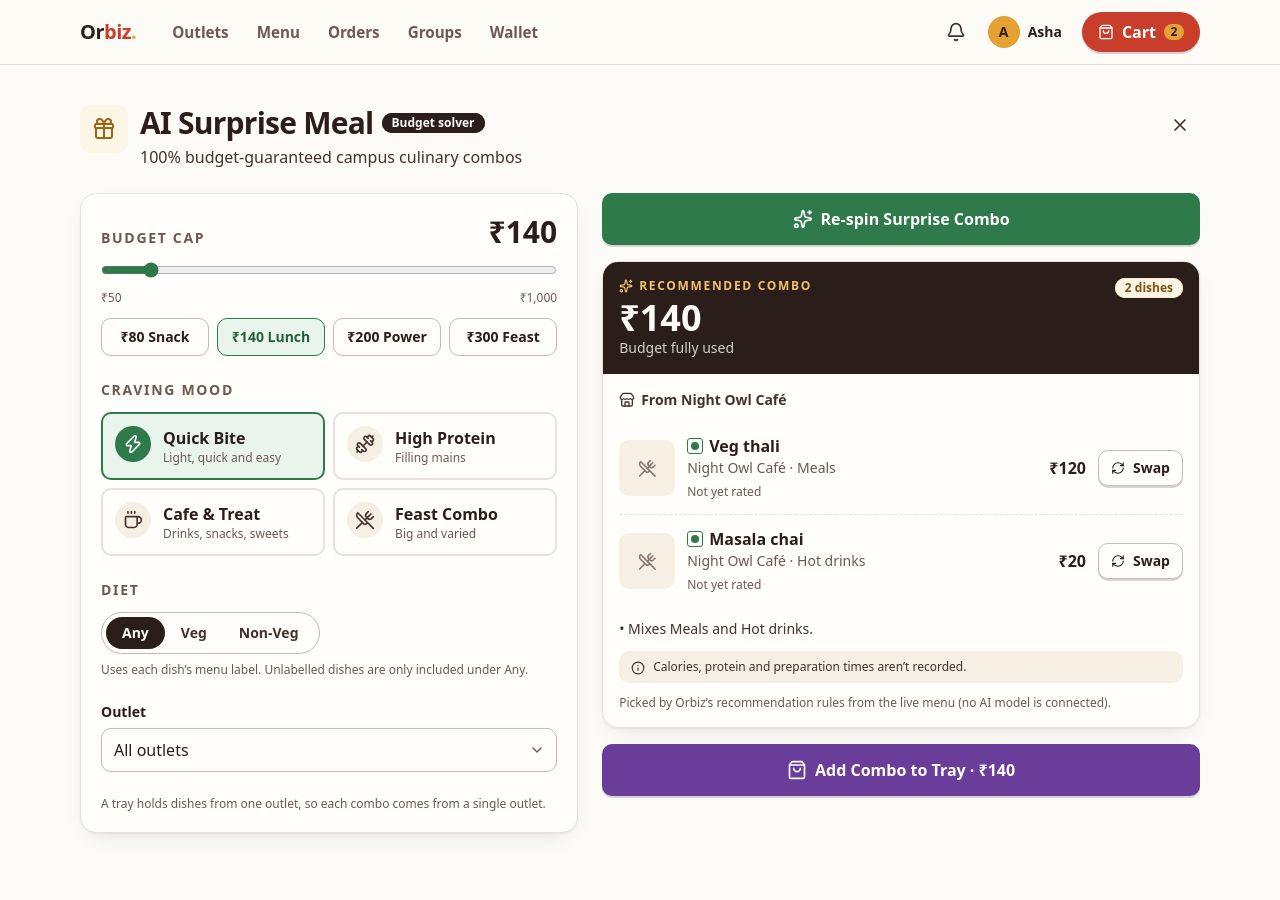
Test case: <SurpriseMealPage /> › keeps the dish and explains when no swap fits
The image size is (1280, 900).
Click the button with aria-label "Swap Masala chai": {"x": 1140, "y": 561} [1098,543,1183,579]
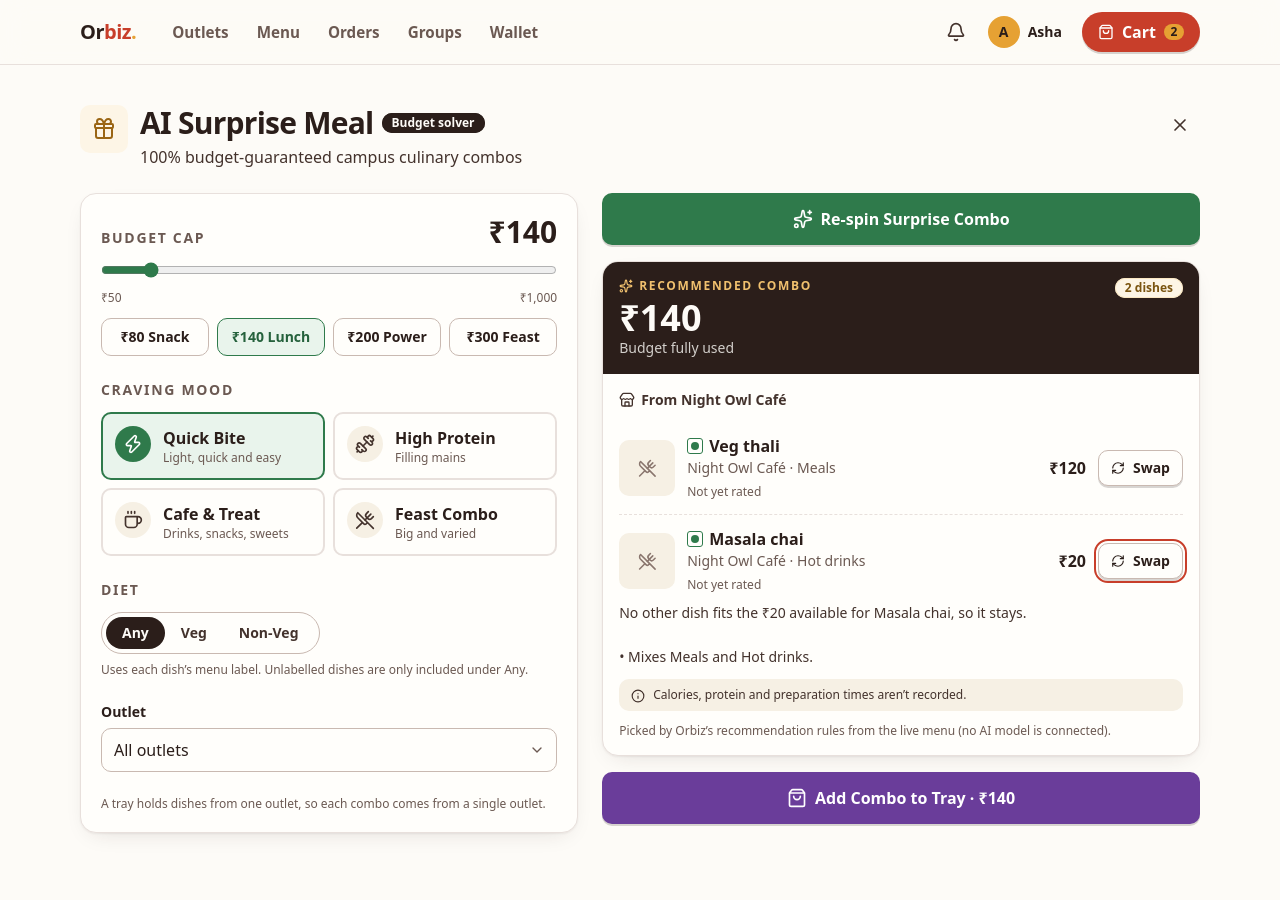
Check: the text "Masala chai" is shown, box [709,527,804,551]
Check: the text "No other dish fits the ₹20 available for Masala chai, so it stays." is shown, box [619,603,1026,622]
